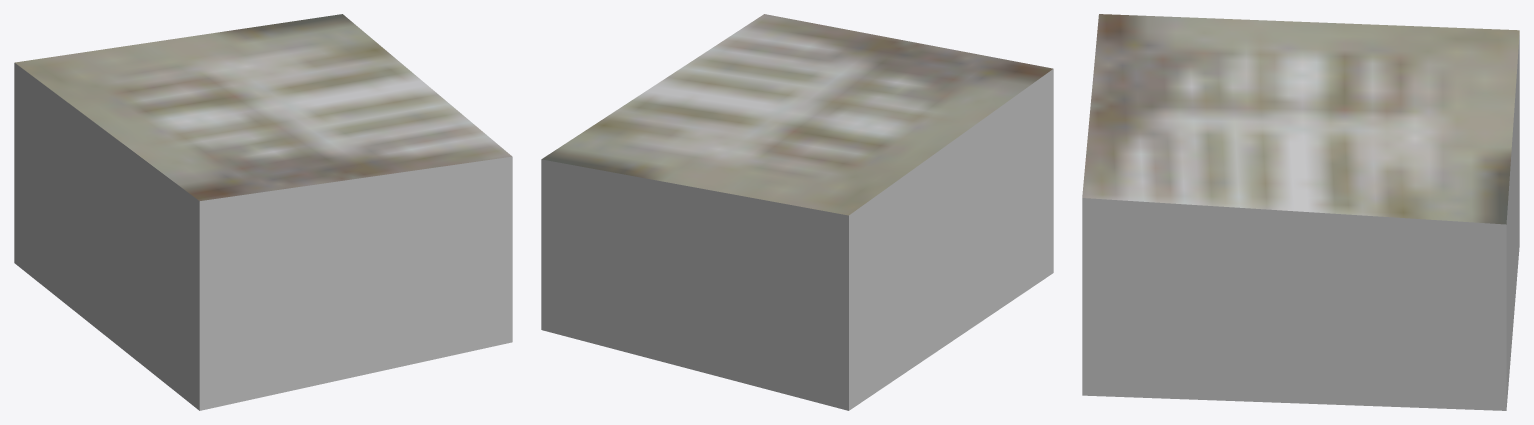
Rendered from DEBW_0010007Tx3x.gltf.
The picture shows the model from 3 angles, left to right: view 1: azimuth 30°, elevation 25°; view 2: azimuth 150°, elevation 25°; view 3: azimuth 270°, elevation 25°; orthographic projection. The views are drawn at different scales.
Visible parts, largest first — view 1: Z_UP; view 2: Z_UP; view 3: Z_UP.
Part boxes in pixels (box(x1,y1,x2,y2)): Z_UP: box(14, 14, 512, 410); Z_UP: box(541, 14, 1053, 410); Z_UP: box(1082, 14, 1519, 410).
Bounding box in the file's own units: 5.88 × 3.52 × 6.26.
Materials: 2 (1 with a texture image).
